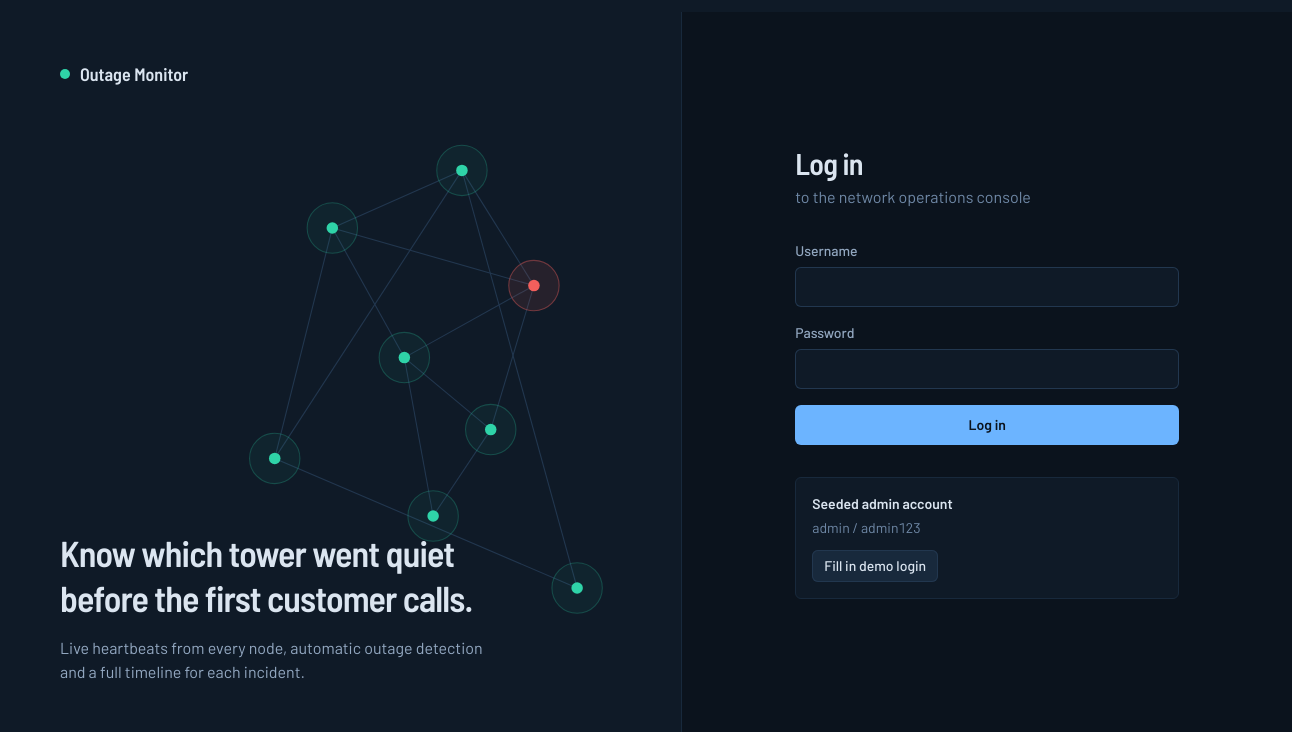
Test: LoginPage › shows the lockout message after too many attempts
In the field labelled "Username": coordinates (987, 287) [795,267,1179,307], type "admin"
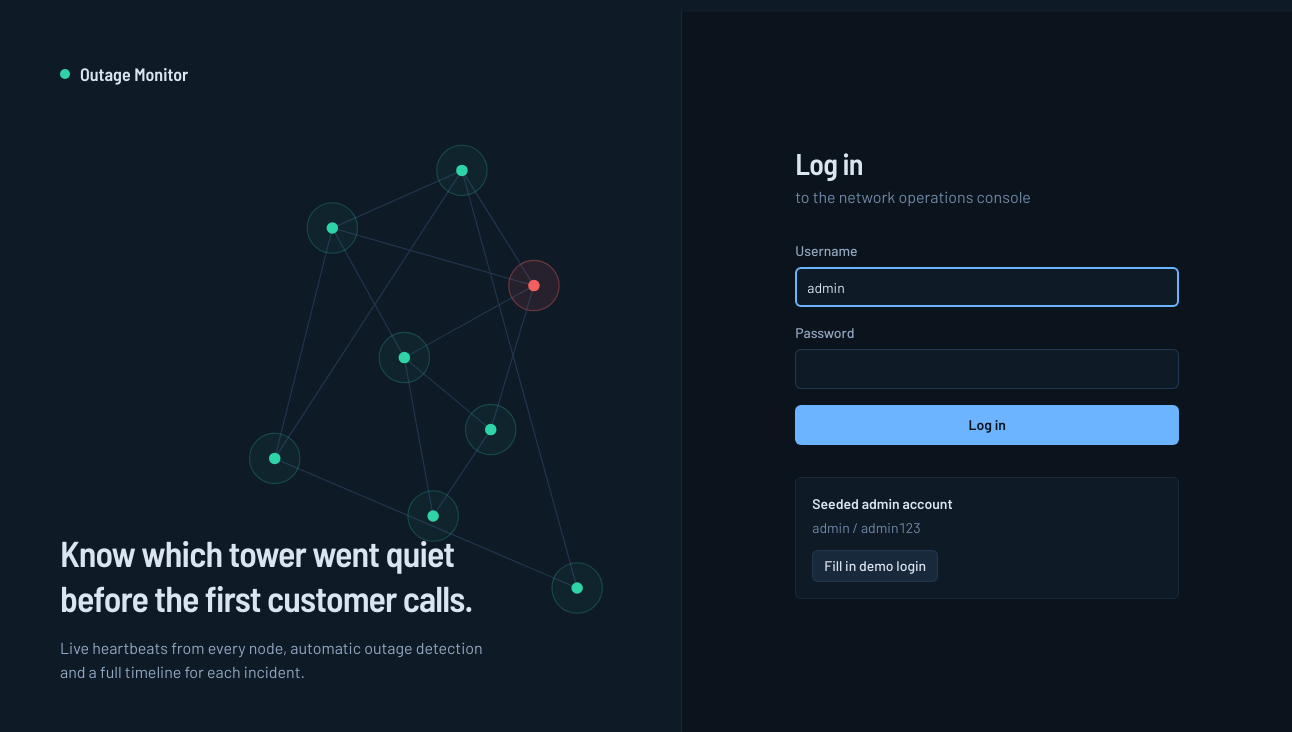
In the password field labelled "Password": coordinates (987, 369) [795,349,1179,389], type "nope"
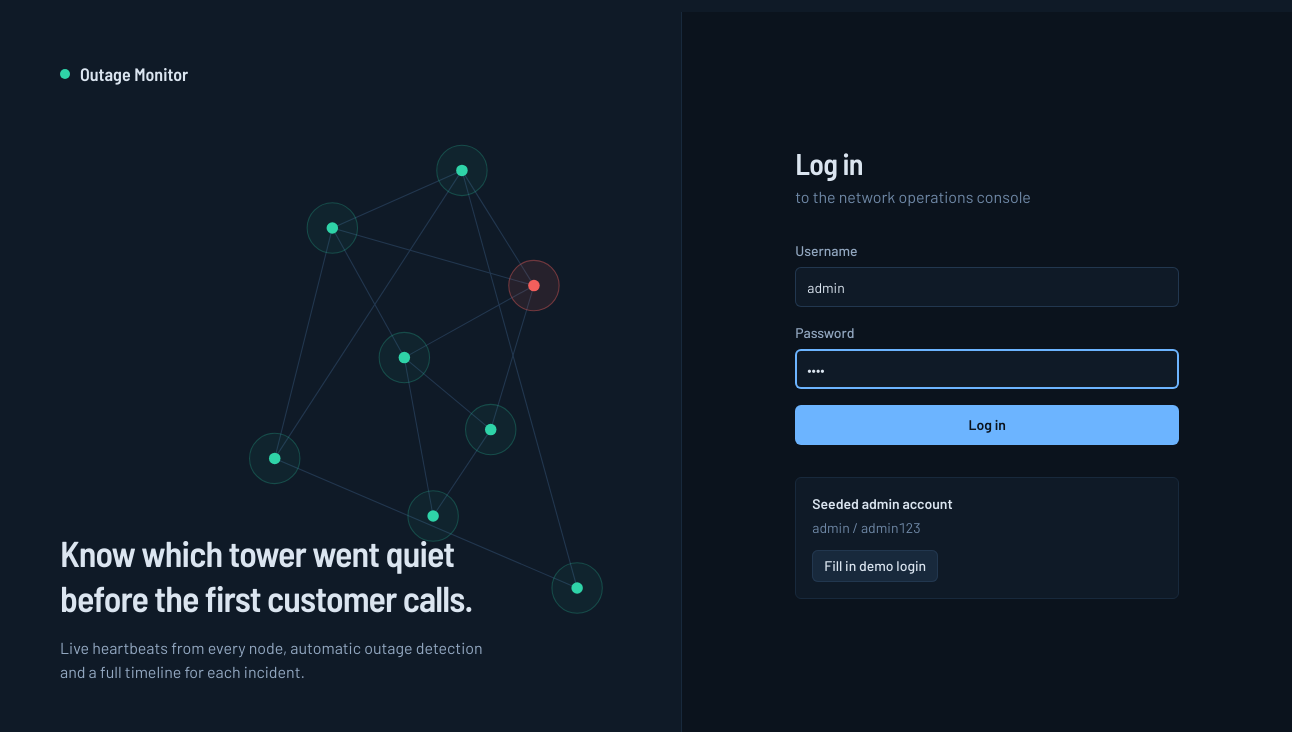
Click the button "Log in": coordinates (987, 425) [795,405,1179,445]
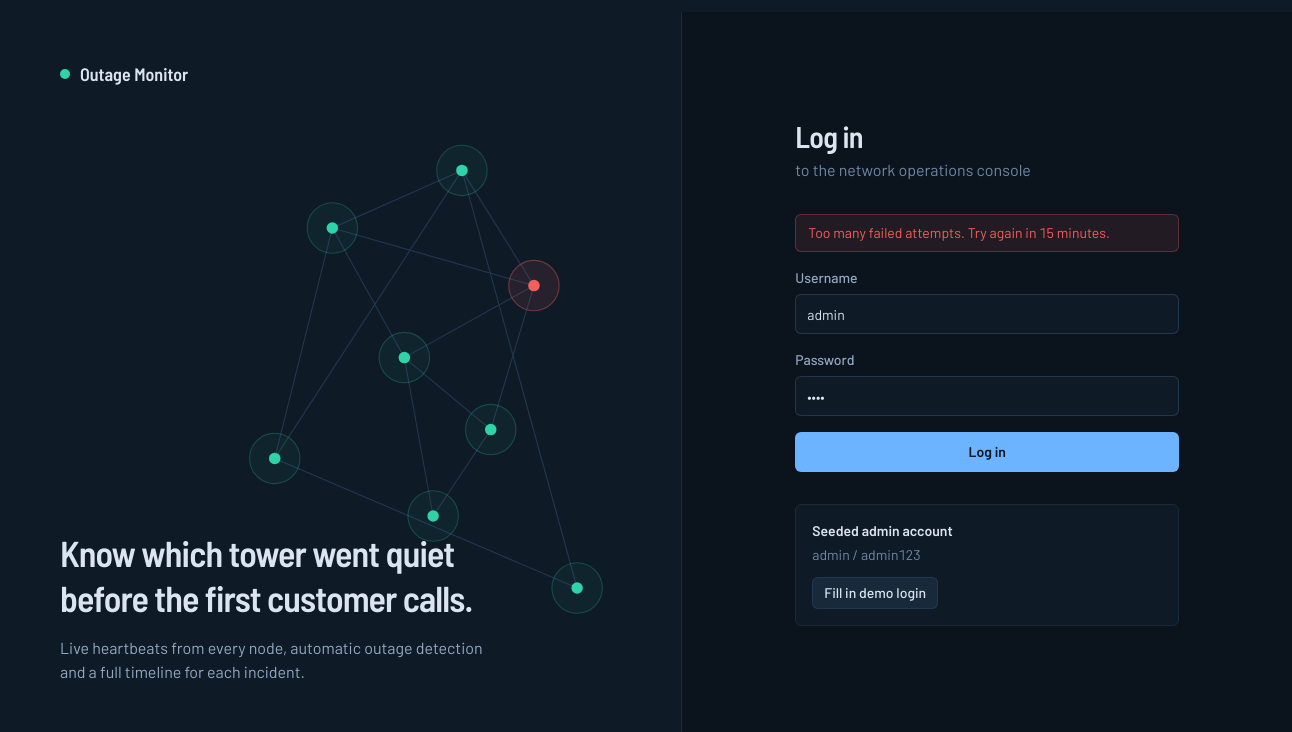
Check: the message shows "Too many failed attempts", box [808,224,1110,241]
